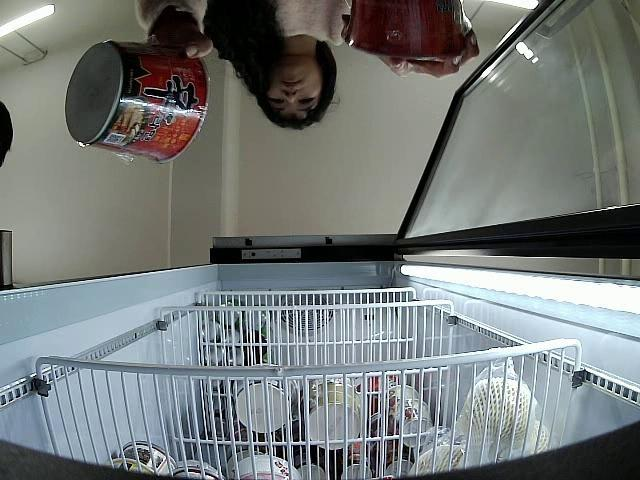01_ShinRamen_L: (64, 38, 209, 164), (342, 0, 466, 61)
